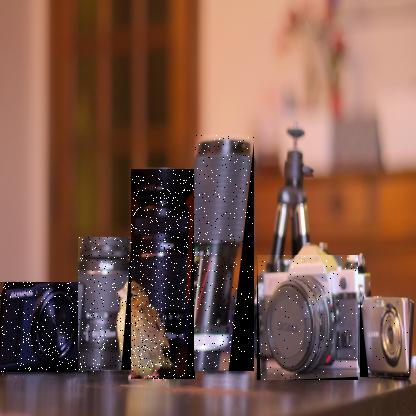Camera: (195, 136, 256, 374), (132, 170, 197, 381), (258, 256, 360, 382), (2, 283, 90, 374), (79, 239, 133, 375), (361, 299, 411, 379)
